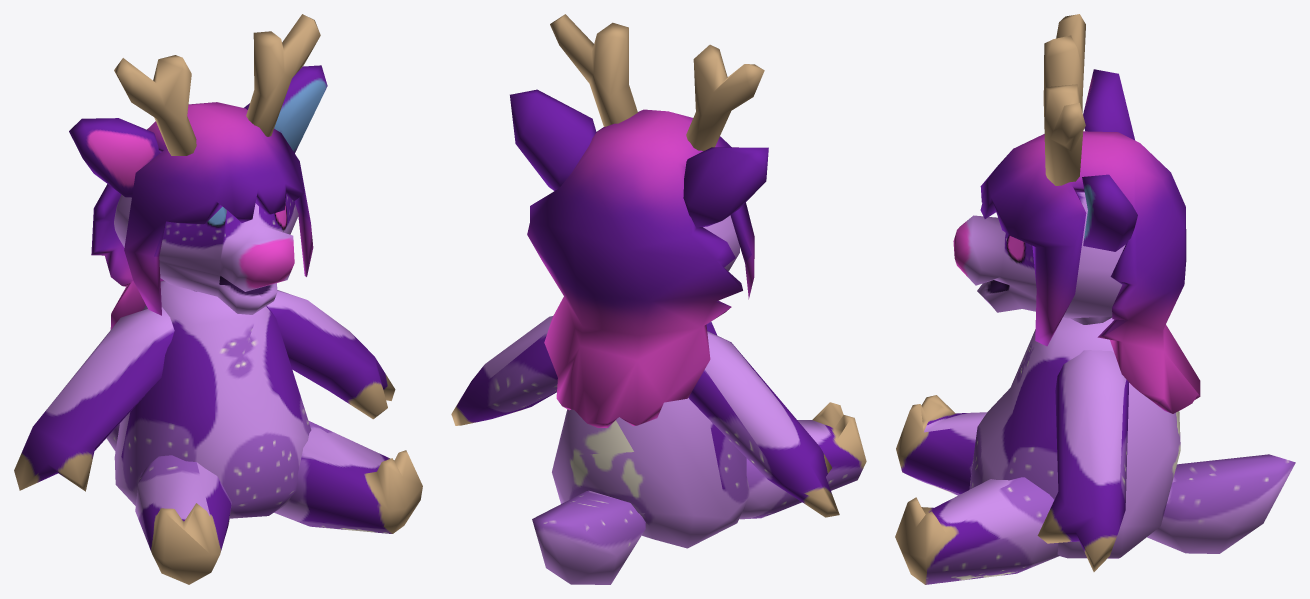
The model's file is nova.glb.
3 renders of one model, left to right at view 1: azimuth 30°, elevation 25°; view 2: azimuth 150°, elevation 25°; view 3: azimuth 270°, elevation 25°, orthographic. The views are drawn at different scales.
Visible parts, largest first — view 1: Plushie; view 2: Plushie; view 3: Plushie.
Boxes of the visible parts, x1,y1,x2,y2 form: Plushie: (14,14,422,584); Plushie: (451,14,866,584); Plushie: (895,14,1295,584).
Bounding box in the file's own units: 3.67 × 4.47 × 3.32.
1 material, 1 textured.
